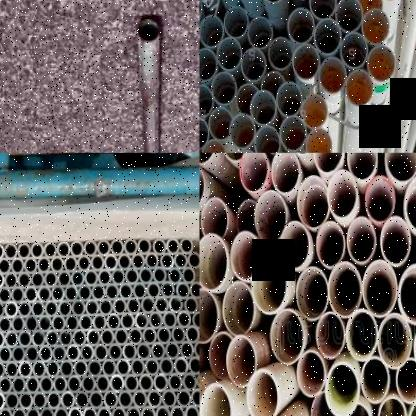pipe: (251, 254, 287, 315), (362, 260, 398, 317), (270, 308, 306, 364), (328, 261, 362, 319), (377, 313, 411, 369), (222, 280, 256, 336), (324, 362, 358, 416), (254, 190, 288, 244), (296, 176, 330, 228), (296, 266, 328, 320), (346, 310, 378, 362), (200, 232, 227, 291), (246, 368, 279, 416), (380, 216, 411, 266), (227, 335, 256, 388), (364, 176, 396, 224), (327, 170, 358, 218), (231, 231, 260, 281), (360, 356, 390, 404), (280, 220, 309, 269), (297, 350, 326, 398), (347, 216, 375, 264), (316, 313, 345, 359), (316, 221, 344, 267), (201, 197, 229, 239), (271, 153, 300, 193), (398, 263, 416, 325), (367, 44, 396, 82), (200, 382, 232, 416), (339, 32, 369, 68), (240, 153, 267, 193), (318, 57, 347, 94), (345, 69, 373, 107), (314, 18, 342, 56), (292, 43, 320, 80), (287, 8, 315, 44), (300, 93, 328, 128), (362, 8, 389, 44), (200, 288, 218, 342), (396, 356, 416, 404), (280, 115, 307, 150), (276, 81, 303, 116), (229, 113, 255, 149), (250, 90, 276, 126), (334, 0, 363, 32), (384, 153, 416, 182), (208, 107, 233, 141), (224, 6, 249, 40), (347, 153, 378, 180), (217, 38, 243, 70), (212, 72, 237, 105), (241, 48, 266, 81), (199, 15, 224, 48), (269, 36, 293, 70), (310, 390, 341, 416), (248, 16, 273, 48), (403, 174, 416, 232), (255, 125, 281, 153), (236, 82, 259, 113), (306, 127, 333, 153), (313, 153, 344, 173), (378, 395, 406, 416), (200, 48, 218, 80), (137, 17, 160, 42), (309, 0, 337, 19), (261, 72, 286, 92), (341, 401, 372, 416), (200, 84, 214, 117), (162, 388, 177, 410), (201, 140, 226, 153), (18, 391, 34, 411), (132, 389, 148, 409), (138, 373, 154, 393), (150, 342, 166, 362), (84, 298, 100, 318), (132, 280, 148, 300), (146, 280, 162, 300), (138, 266, 154, 286), (176, 388, 191, 409), (220, 153, 254, 162), (32, 391, 48, 410), (108, 343, 124, 362), (136, 342, 152, 361), (128, 327, 144, 346), (184, 325, 200, 344), (162, 310, 178, 329), (176, 310, 192, 329), (110, 267, 126, 286), (61, 390, 76, 410), (74, 390, 89, 410), (89, 390, 104, 410), (147, 389, 162, 409), (25, 374, 40, 394), (38, 374, 53, 394), (109, 374, 124, 394), (182, 372, 197, 392), (73, 358, 88, 378), (174, 356, 189, 376), (122, 342, 137, 362), (72, 328, 87, 348), (142, 326, 157, 346), (106, 312, 121, 332), (148, 310, 163, 330), (71, 298, 86, 318), (37, 284, 52, 304), (84, 268, 99, 288), (118, 389, 132, 410), (200, 118, 209, 150), (124, 374, 140, 392), (64, 314, 80, 332), (140, 296, 156, 314), (118, 282, 134, 300), (160, 280, 176, 298), (357, 0, 383, 11), (67, 375, 82, 394), (81, 375, 96, 394), (159, 357, 174, 376), (38, 344, 53, 363), (165, 341, 180, 360), (31, 329, 46, 348), (78, 313, 93, 332), (120, 312, 135, 331), (112, 297, 127, 316), (168, 295, 183, 314), (24, 285, 39, 304), (51, 284, 66, 303), (64, 284, 79, 303), (91, 283, 106, 302), (104, 282, 119, 301), (17, 271, 32, 290), (57, 269, 72, 288), (70, 269, 85, 288), (125, 267, 140, 286), (104, 390, 118, 410), (96, 374, 110, 394), (154, 372, 168, 392), (168, 372, 182, 392), (46, 359, 60, 379), (88, 358, 102, 378), (116, 358, 130, 378), (25, 344, 39, 364), (180, 340, 194, 360), (59, 328, 73, 348), (11, 314, 25, 334), (93, 312, 107, 332), (4, 300, 18, 320), (168, 266, 182, 286), (182, 266, 196, 286), (5, 392, 20, 410), (4, 361, 19, 379), (32, 360, 47, 378), (130, 358, 145, 376), (145, 358, 160, 376), (4, 330, 19, 348), (114, 328, 129, 346), (157, 326, 172, 344), (171, 326, 186, 344), (134, 312, 149, 330), (98, 298, 113, 316), (154, 296, 169, 314), (43, 270, 58, 288), (152, 266, 167, 284), (46, 391, 60, 410), (53, 375, 67, 394), (18, 360, 32, 379), (102, 358, 116, 377), (12, 345, 26, 364), (52, 344, 66, 363), (66, 344, 80, 363), (94, 343, 108, 362), (45, 329, 59, 348), (86, 328, 100, 347), (100, 328, 114, 347), (38, 314, 52, 333), (52, 314, 66, 333), (58, 299, 72, 318), (126, 297, 140, 316), (184, 297, 198, 316), (78, 283, 92, 302), (4, 271, 18, 290), (30, 270, 44, 289), (98, 268, 112, 287), (24, 256, 38, 275), (64, 254, 78, 273), (118, 252, 132, 271), (152, 237, 166, 256), (51, 254, 64, 274), (12, 376, 26, 394), (60, 360, 74, 378), (80, 344, 94, 362), (18, 330, 32, 348), (24, 314, 38, 332), (31, 300, 45, 318), (44, 300, 58, 318), (11, 286, 25, 304), (176, 282, 190, 300), (36, 256, 50, 274), (78, 254, 92, 272), (132, 252, 146, 270), (145, 252, 159, 270), (4, 242, 18, 260), (30, 242, 44, 260), (43, 242, 57, 260), (70, 240, 84, 258), (84, 240, 98, 258), (97, 240, 111, 258), (180, 237, 194, 255), (138, 237, 152, 255), (166, 236, 180, 254), (11, 256, 24, 275), (110, 238, 123, 257), (105, 252, 117, 272), (0, 376, 13, 394), (18, 300, 31, 318), (160, 252, 173, 270), (18, 242, 31, 260), (57, 240, 70, 258), (0, 345, 12, 364), (0, 257, 12, 276), (91, 253, 103, 272), (125, 237, 137, 256), (188, 356, 199, 376), (0, 315, 12, 333), (0, 286, 12, 304), (175, 252, 187, 270), (187, 250, 199, 268), (140, 404, 156, 416), (184, 404, 200, 416), (155, 404, 170, 416), (191, 388, 200, 408), (189, 281, 199, 299), (96, 405, 112, 416), (407, 397, 416, 416), (170, 404, 184, 416), (126, 405, 141, 416), (191, 311, 200, 329), (82, 405, 96, 416), (112, 405, 126, 416), (39, 406, 54, 416), (53, 406, 68, 416), (68, 406, 83, 416), (12, 406, 26, 416), (26, 406, 40, 416), (193, 340, 200, 360), (0, 406, 12, 416), (0, 390, 5, 410), (0, 360, 5, 379), (0, 330, 4, 348), (0, 300, 4, 318), (0, 272, 4, 290), (0, 242, 4, 260), (196, 372, 199, 392)
